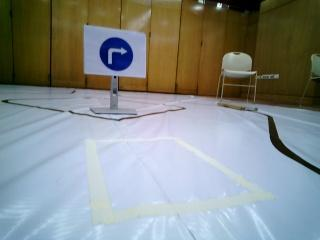right: (85, 26, 145, 76)
